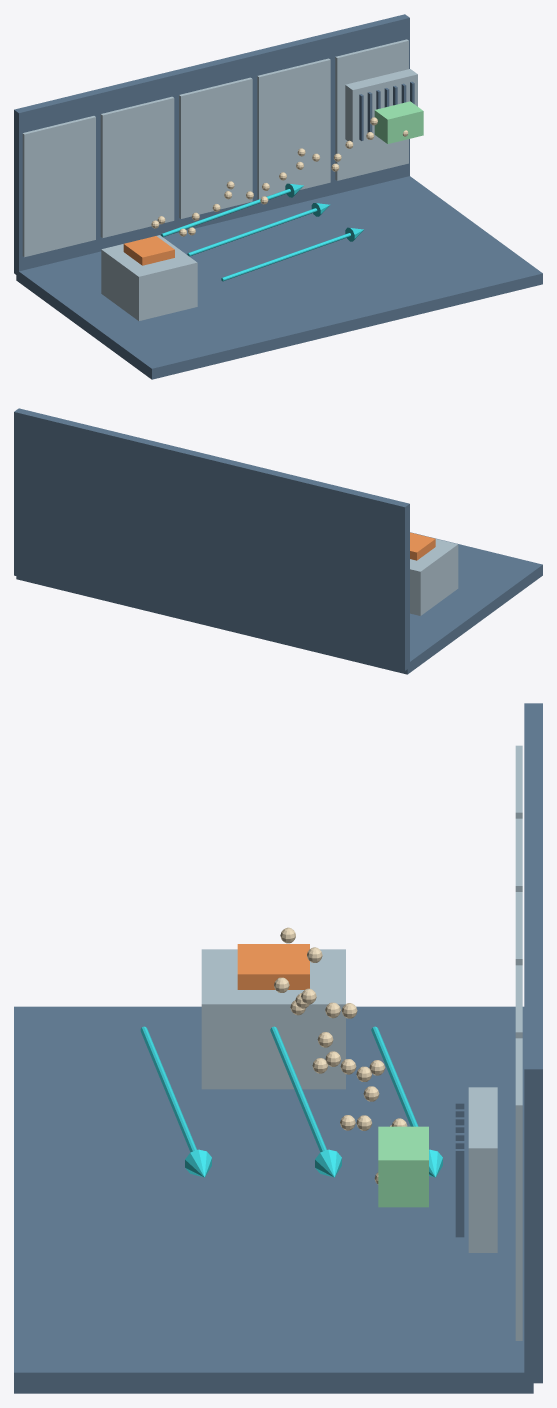
Rendered from cabin_transport.glb.
3 renders of one model, top to bottom at view 1: azimuth 30°, elevation 25°; view 2: azimuth 150°, elevation 25°; view 3: azimuth 270°, elevation 25°, orthographic. The views are drawn at different scales.
Parts seen in each view (by area): view 1: Cabin floor, Rear cabin wall, Wall panel.001, Wall panel, Wall panel.002, Wall panel.003, Equipment housing, Wall panel.004, Return vent, Detector before return, Overheated material — no flame, Ventilation guide — conceptual (+2 smaller); view 2: Rear cabin wall, Cabin floor, Equipment housing, Overheated material — no flame; view 3: Cabin floor, Equipment housing, Rear cabin wall, Return vent, Detector before return, Overheated material — no flame, Wall panel.004, Ventilation guide — conceptual, Ventilation guide — conceptual.001, Vent grille.006, Ventilation guide — conceptual.002.
Boxes of the visible parts, x1=… form: Cabin floor: x1=16, y1=176, x2=542, y2=379; Rear cabin wall: x1=14, y1=14, x2=409, y2=274; Wall panel.001: x1=100, y1=96, x2=174, y2=237; Wall panel: x1=22, y1=116, x2=95, y2=257; Wall panel.002: x1=179, y1=77, x2=252, y2=218; Wall panel.003: x1=257, y1=58, x2=330, y2=199; Equipment housing: x1=101, y1=235, x2=197, y2=320; Wall panel.004: x1=335, y1=39, x2=408, y2=180; Return vent: x1=345, y1=69, x2=417, y2=144; Detector before return: x1=374, y1=101, x2=423, y2=143; Overheated material — no flame: x1=123, y1=236, x2=174, y2=265; Ventilation guide — conceptual: x1=221, y1=233, x2=350, y2=281; Rear cabin wall: x1=14, y1=408, x2=409, y2=670; Cabin floor: x1=16, y1=532, x2=542, y2=674; Equipment housing: x1=410, y1=539, x2=458, y2=615; Overheated material — no flame: x1=410, y1=532, x2=435, y2=560; Cabin floor: x1=14, y1=1006, x2=533, y2=1393; Equipment housing: x1=201, y1=949, x2=345, y2=1089; Rear cabin wall: x1=524, y1=703, x2=542, y2=1383; Return vent: x1=468, y1=1087, x2=497, y2=1252; Detector before return: x1=378, y1=1126, x2=428, y2=1207; Overheated material — no flame: x1=237, y1=944, x2=309, y2=989; Wall panel.004: x1=515, y1=1038, x2=522, y2=1340; Ventilation guide — conceptual: x1=140, y1=1026, x2=196, y2=1152; Ventilation guide — conceptual.001: x1=270, y1=1026, x2=326, y2=1152; Vent grille.006: x1=455, y1=1149, x2=464, y2=1237; Ventilation guide — conceptual.002: x1=371, y1=1026, x2=418, y2=1126.
Bounding box in the file's own units: 6 × 2.48 × 3.66.
